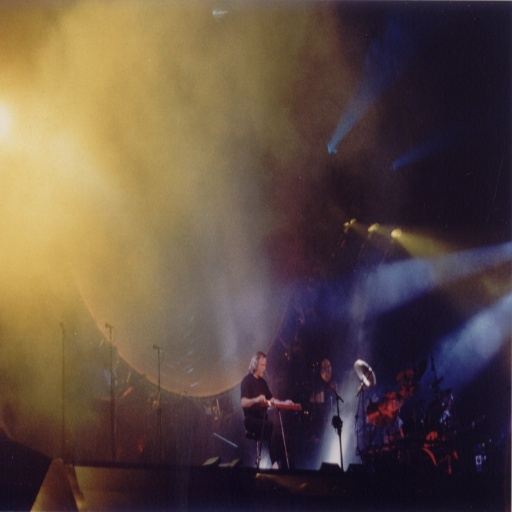hand: (258, 392, 264, 404)
